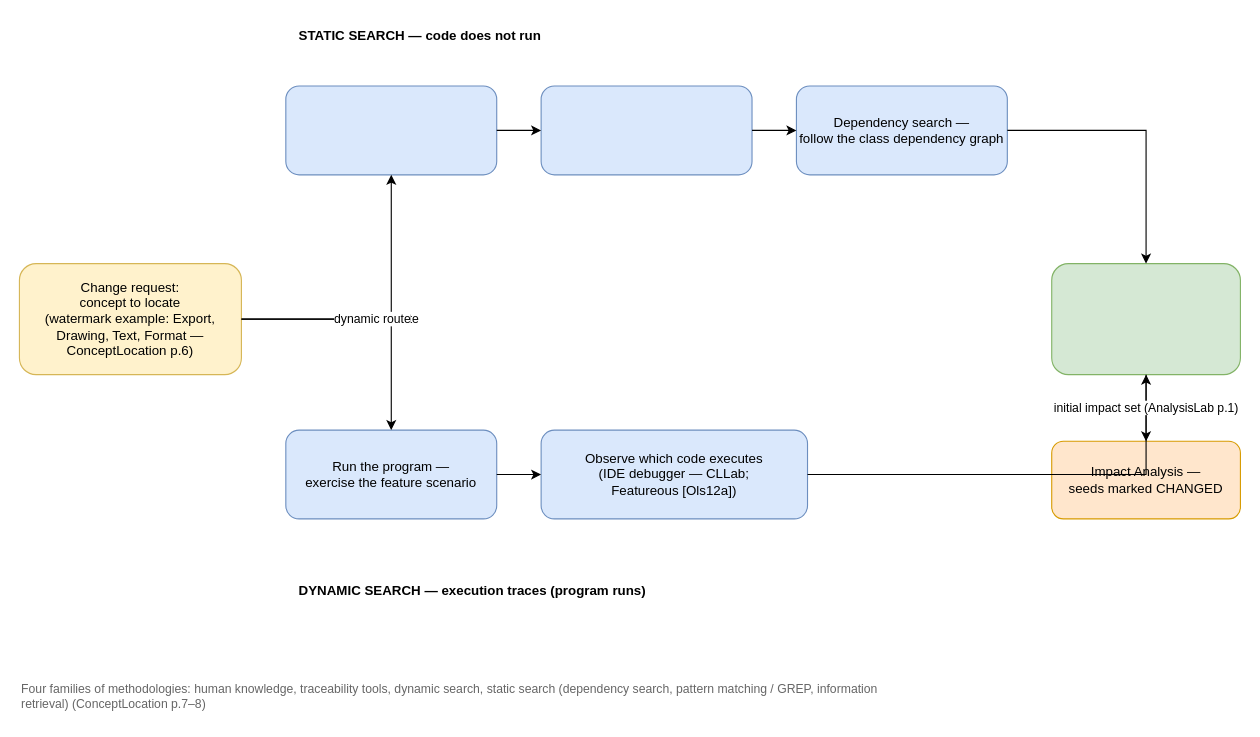
This 1260x737 diagram has some shape labels left out. The centre of each missing label's shape, as x and y in pixels:
Concept located: initial class set (domain classes & responsibilities): pixel 1145 319
Pattern matching: GREP query → investigate → refine: pixel 391 130
Read candidate code (partial comprehension): pixel 646 130
